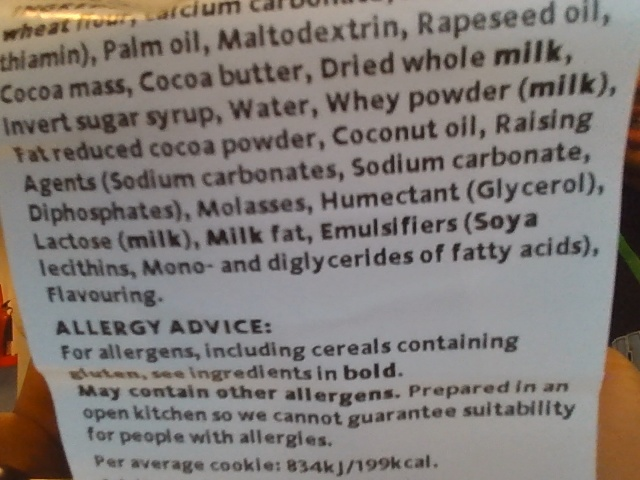milk: (493, 40, 564, 65), (527, 76, 597, 99), (203, 224, 266, 245), (125, 230, 182, 251)
